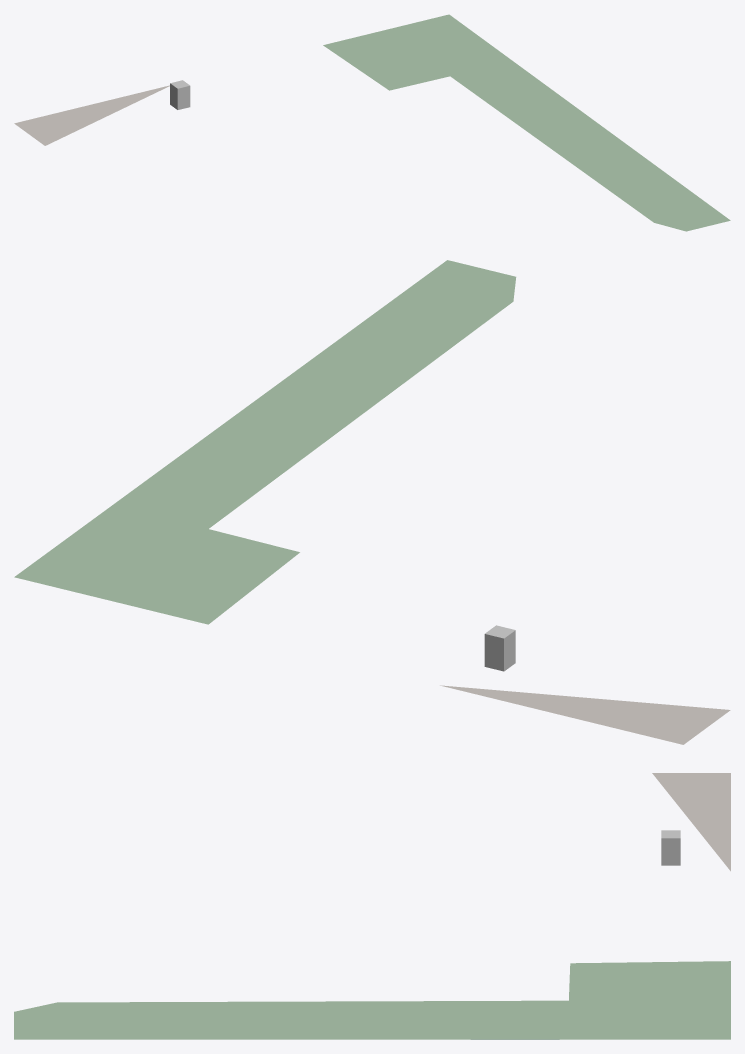
File: 129_82_mid.glb
3 renders of one model, top to bottom at view 1: azimuth 30°, elevation 25°; view 2: azimuth 150°, elevation 25°; view 3: azimuth 270°, elevation 25°, orthographic. The views are drawn at different scales.
Bounding box in the file's own units: 446 × 21 × 500.
